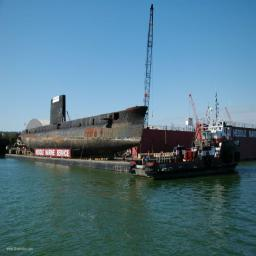submarine: (7, 92, 146, 146)
